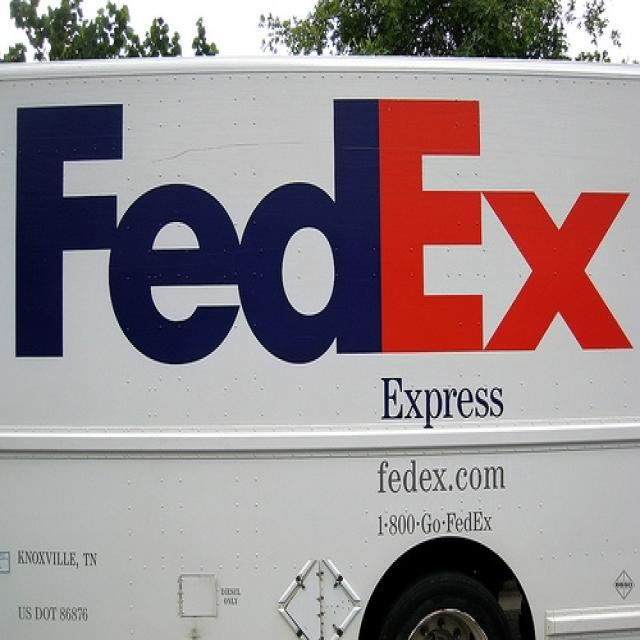fedex: (5, 90, 640, 372)
